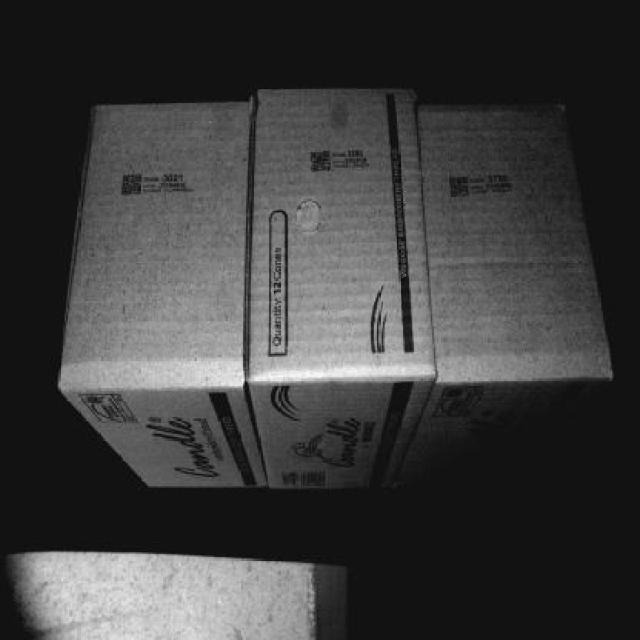cardboxes: (62, 92, 245, 386), (429, 109, 611, 377), (260, 92, 428, 382)
